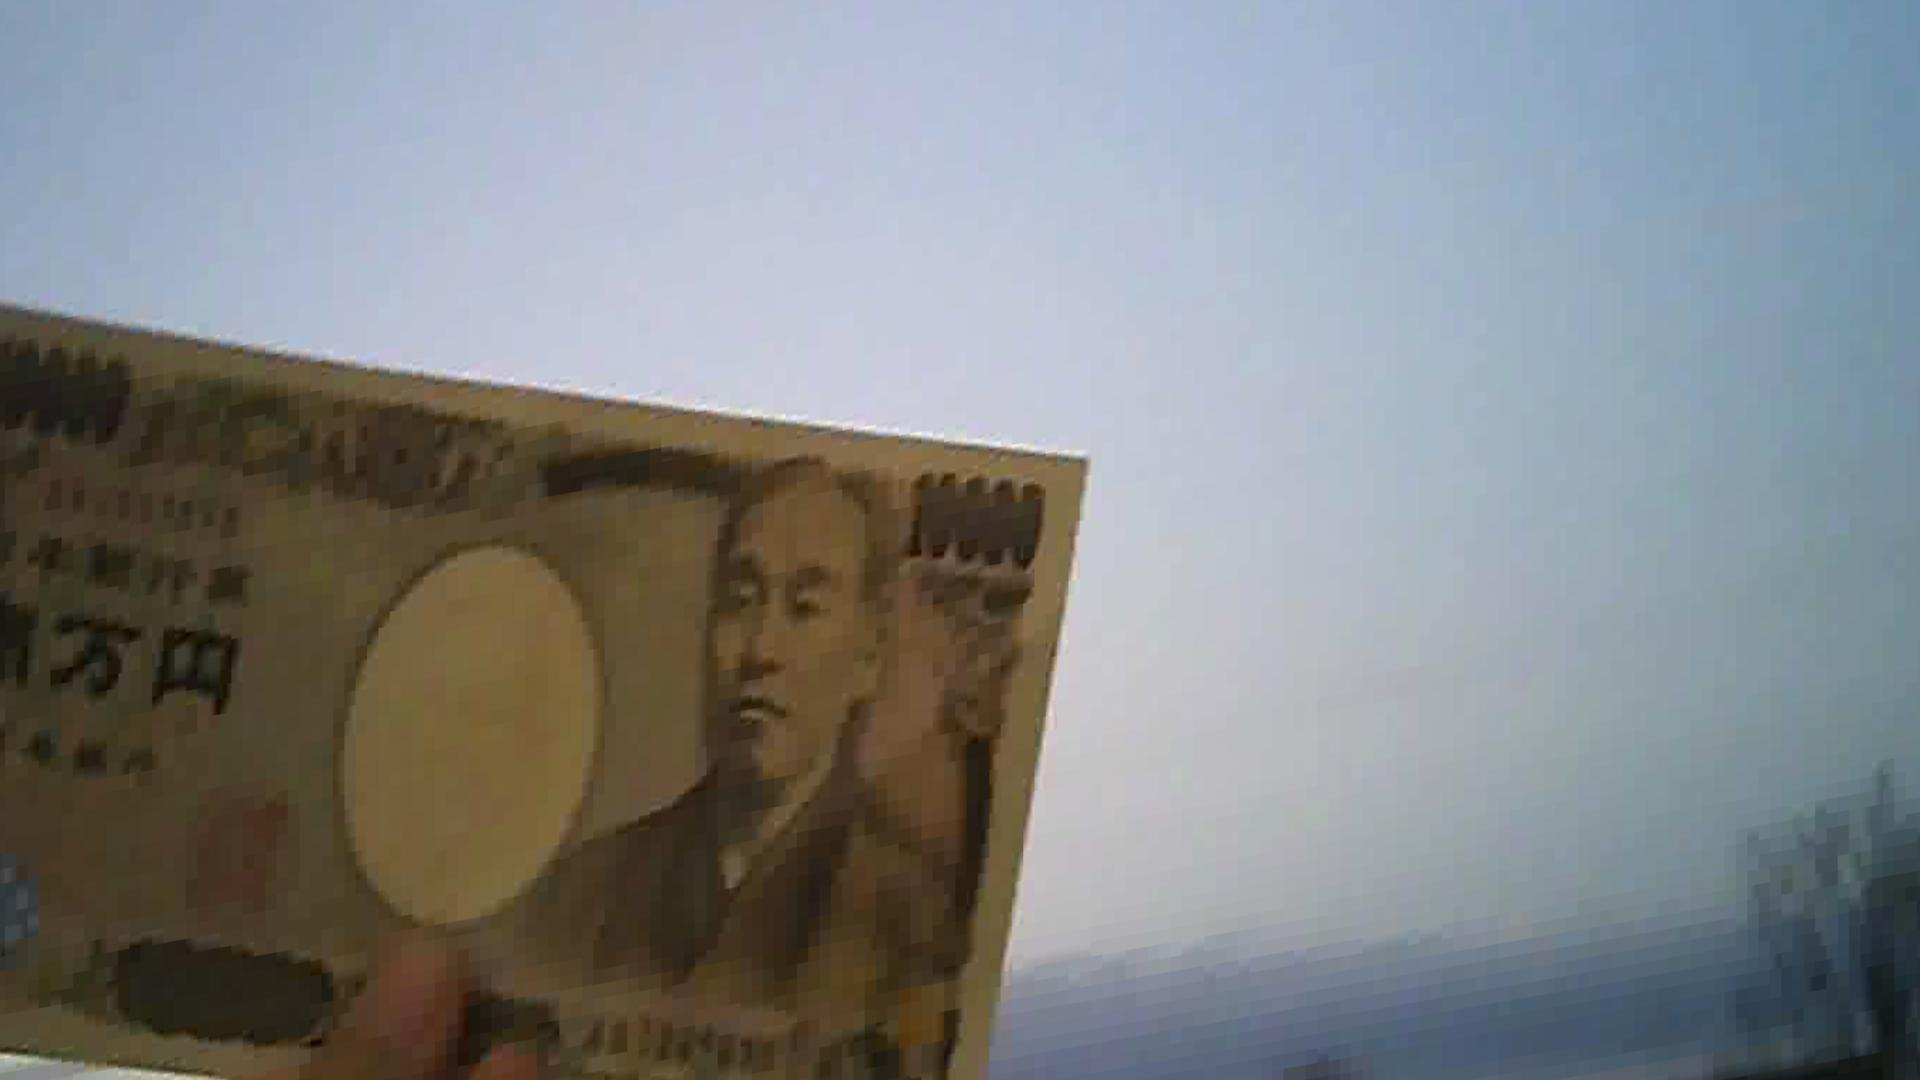10,000 Yen: (25, 299, 1063, 1079)
